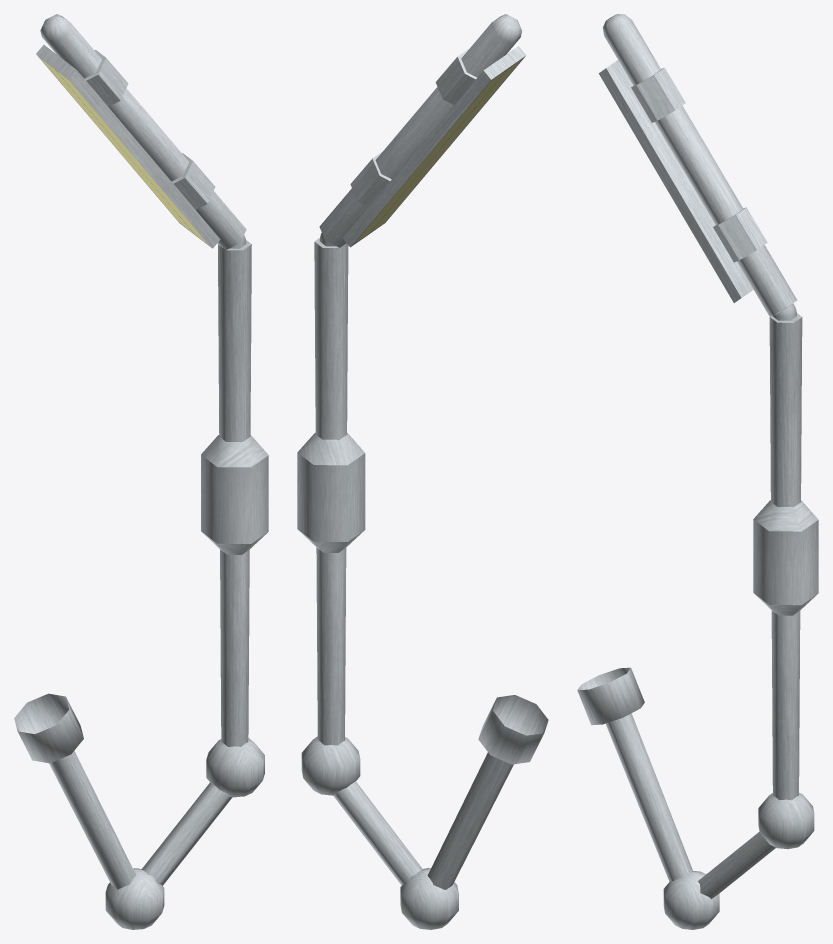
Rendered from streetLight.obj.
The picture shows the model from 3 angles, left to right: view 1: azimuth 30°, elevation 25°; view 2: azimuth 150°, elevation 25°; view 3: azimuth 330°, elevation 25°; orthographic projection. The views are drawn at different scales.
Visible parts, largest first — view 1: Cube.006_Cube.006_Metal, Cube.000_Cube.000_Details; view 2: Cube.006_Cube.006_Metal, Cube.000_Cube.000_Details; view 3: Cube.006_Cube.006_Metal, Cube.000_Cube.000_Details.
Part boxes in pixels (bbox=[...]): Cube.006_Cube.006_Metal: bbox=[14, 14, 268, 929]; Cube.000_Cube.000_Details: bbox=[36, 54, 268, 543]; Cube.006_Cube.006_Metal: bbox=[297, 14, 548, 929]; Cube.000_Cube.000_Details: bbox=[297, 56, 525, 541]; Cube.006_Cube.006_Metal: bbox=[577, 14, 818, 929]; Cube.000_Cube.000_Details: bbox=[753, 303, 818, 605].
Size of the model in its own units: 1.34 by 4.96 by 0.3544.
2 materials, 2 textured.
